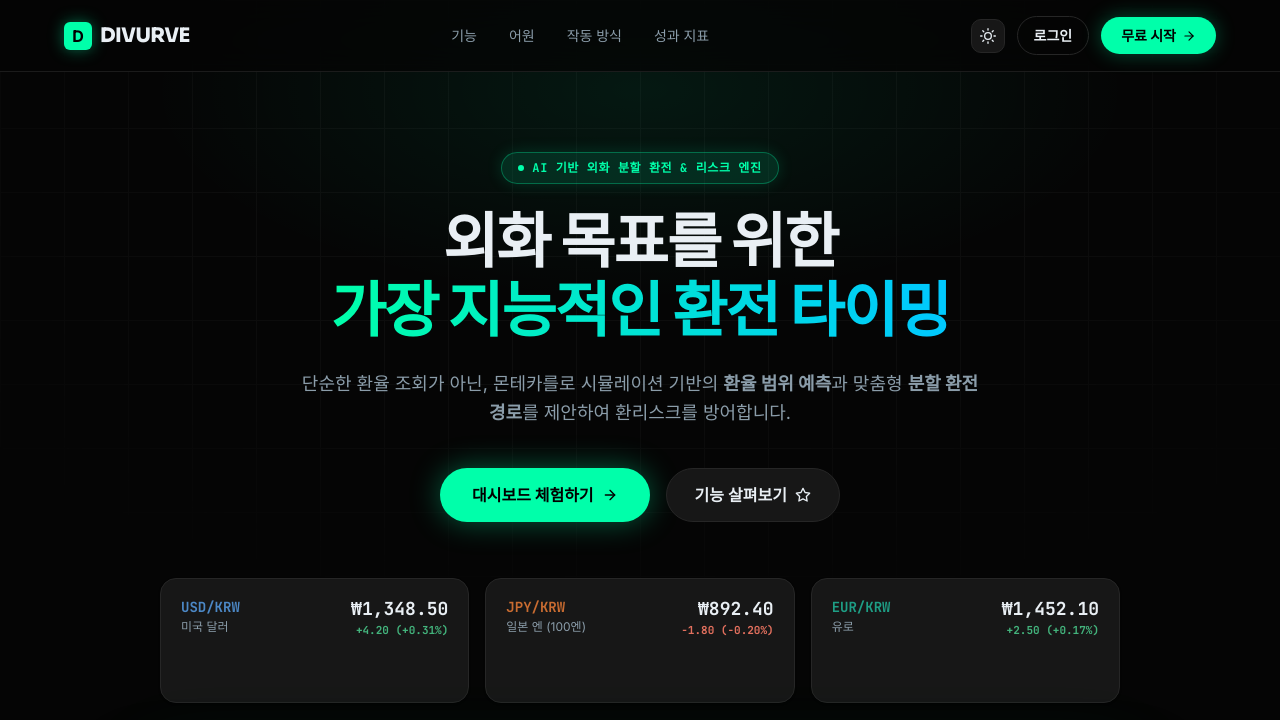
Test: App › 헤더의 마이페이지 아바타 버튼 클릭 시 마이페이지로 이동한다
This screenshot has width=1280, height=720.
Click the button "대시보드 체험하기" at (545, 495), box [440,468,650,522]
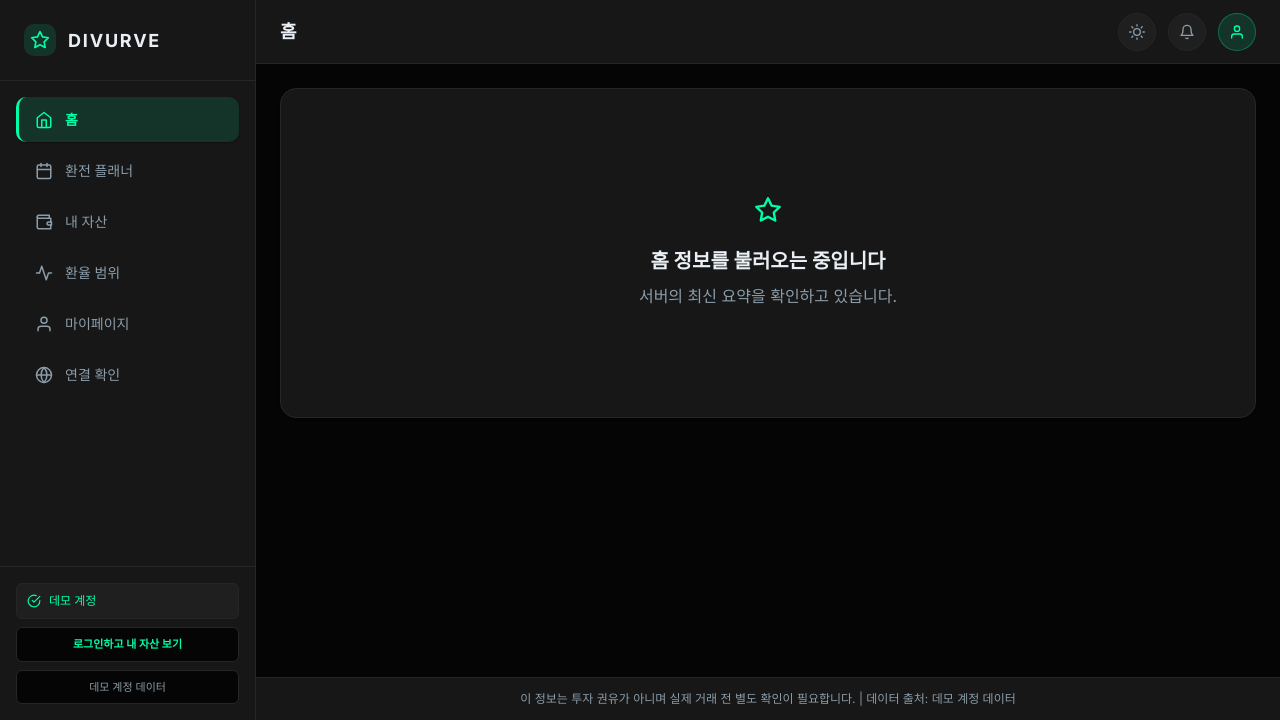
Now the heading "DIVURVE" is shown, box [68,26,161,54]
Click the button named "마이페이지 이동" at (1237, 32), box [1218,12,1256,50]
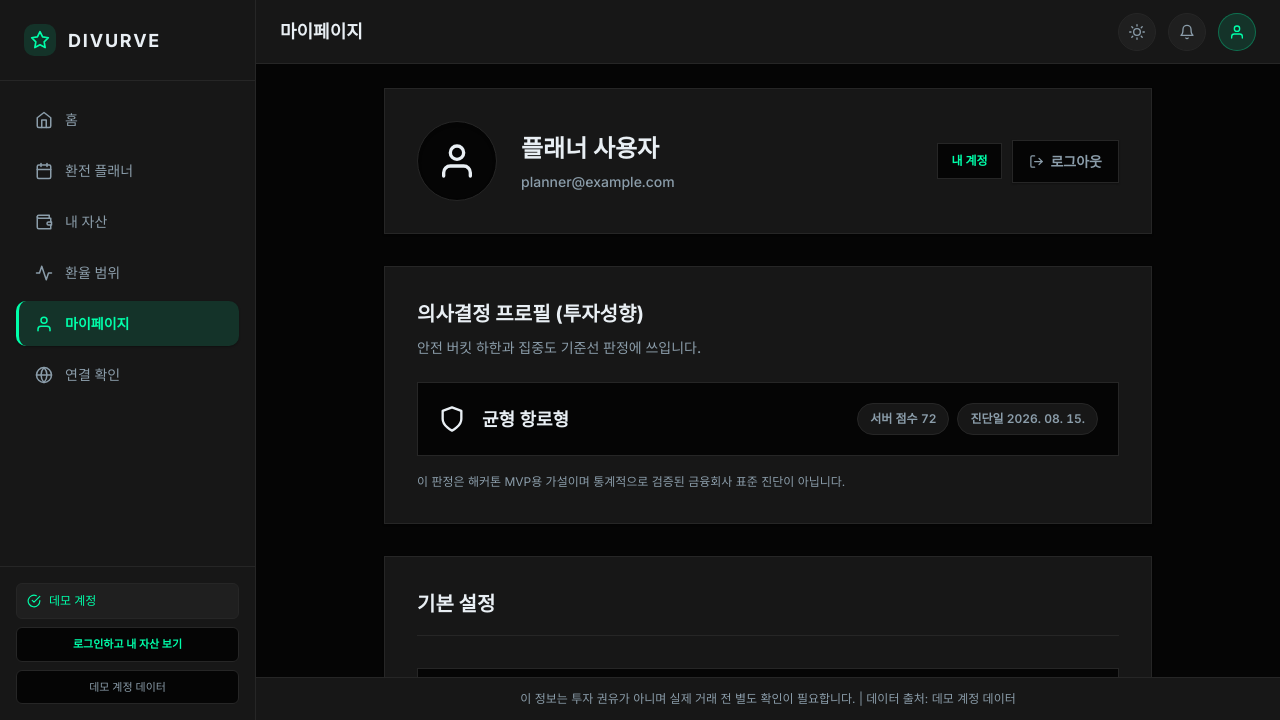
Now the heading "마이페이지" is shown, box [280,18,363,45]
